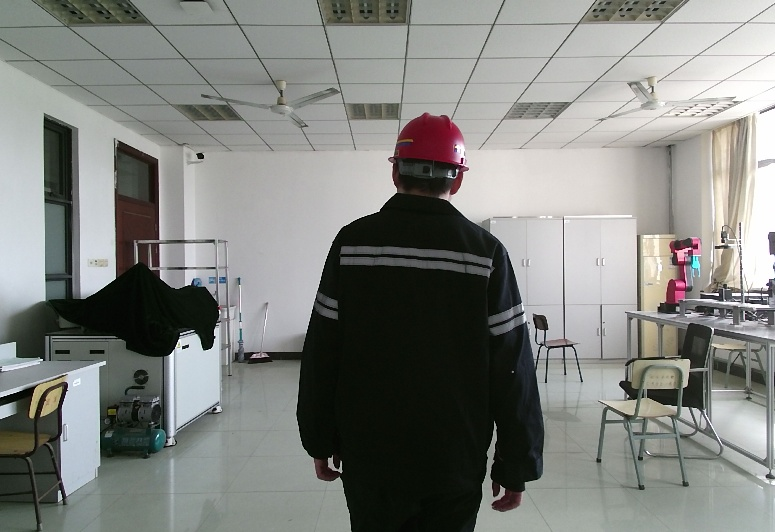person: (296, 110, 570, 532)
